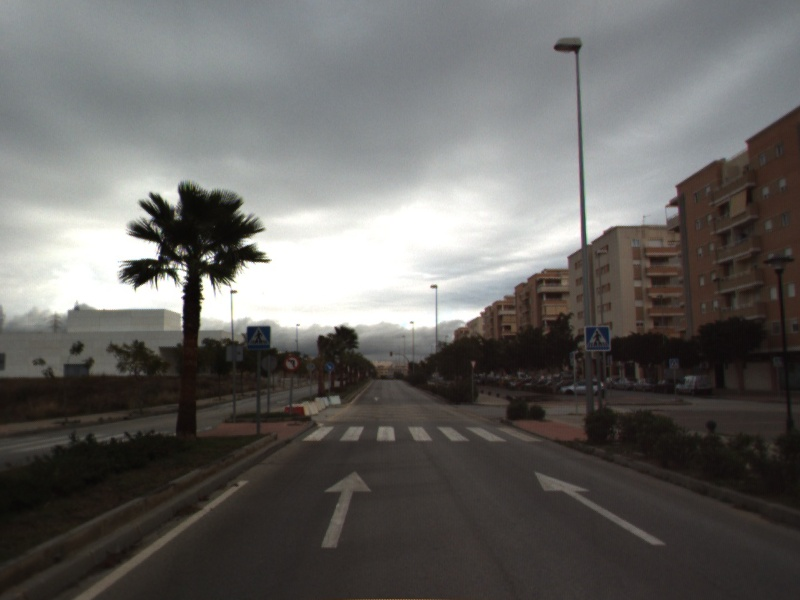STRAIGHT: (533, 470, 668, 547), (318, 469, 374, 550)
